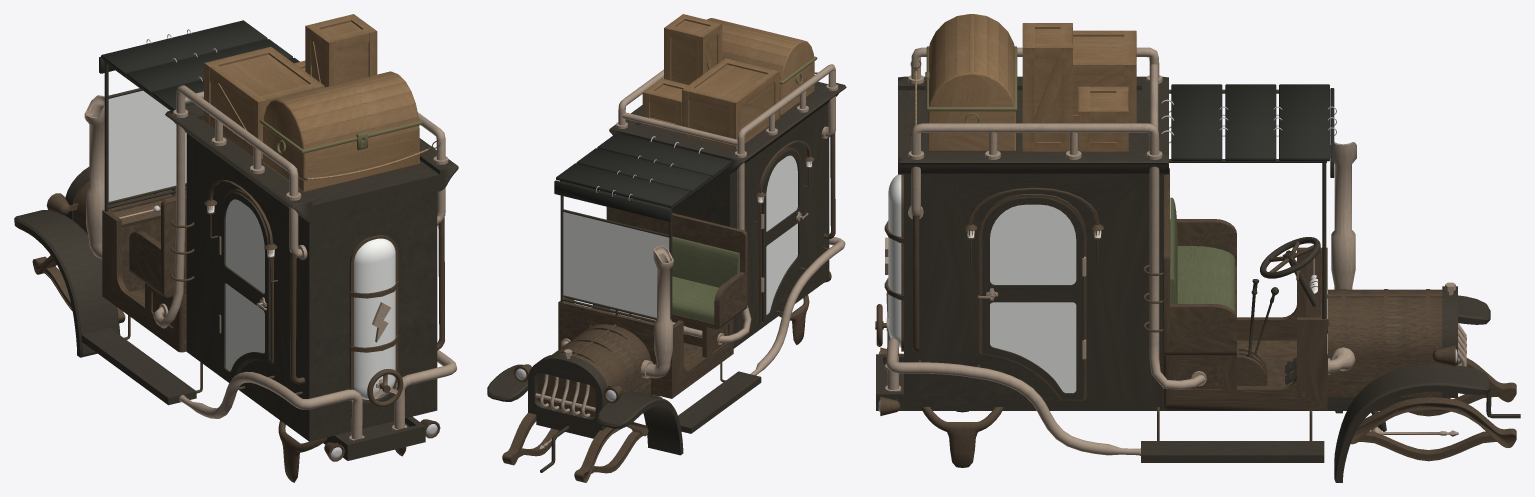
Rendered from coche.obj.
3 views of the same model, side by side, from view 1: azimuth 30°, elevation 25°; view 2: azimuth 150°, elevation 25°; view 3: azimuth 270°, elevation 25° (orthographic). The views are drawn at different scales.
Parts seen in each view (by area): view 1: Cube.003_Materiau_Metal, Cube.003_Materiau, Cube.003_Verre; view 2: Cube.003_Materiau_Metal, Cube.003_Materiau, Cube.003_Verre; view 3: Cube.003_Materiau_Metal, Cube.003_Materiau, Cube.003_Verre.
Part boxes in pixels (bbox=[...]): Cube.003_Materiau_Metal: bbox=[14, 29, 458, 482]; Cube.003_Materiau: bbox=[99, 14, 422, 297]; Cube.003_Verre: bbox=[108, 90, 395, 399]; Cube.003_Materiau_Metal: bbox=[487, 64, 846, 482]; Cube.003_Materiau: bbox=[554, 14, 817, 329]; Cube.003_Verre: bbox=[563, 155, 812, 317]; Cube.003_Materiau_Metal: bbox=[875, 47, 1520, 482]; Cube.003_Materiau: bbox=[925, 14, 1334, 355]; Cube.003_Verre: bbox=[888, 174, 1317, 393].
Size of the model in its own units: 4.22 by 8.75 by 12.09.
